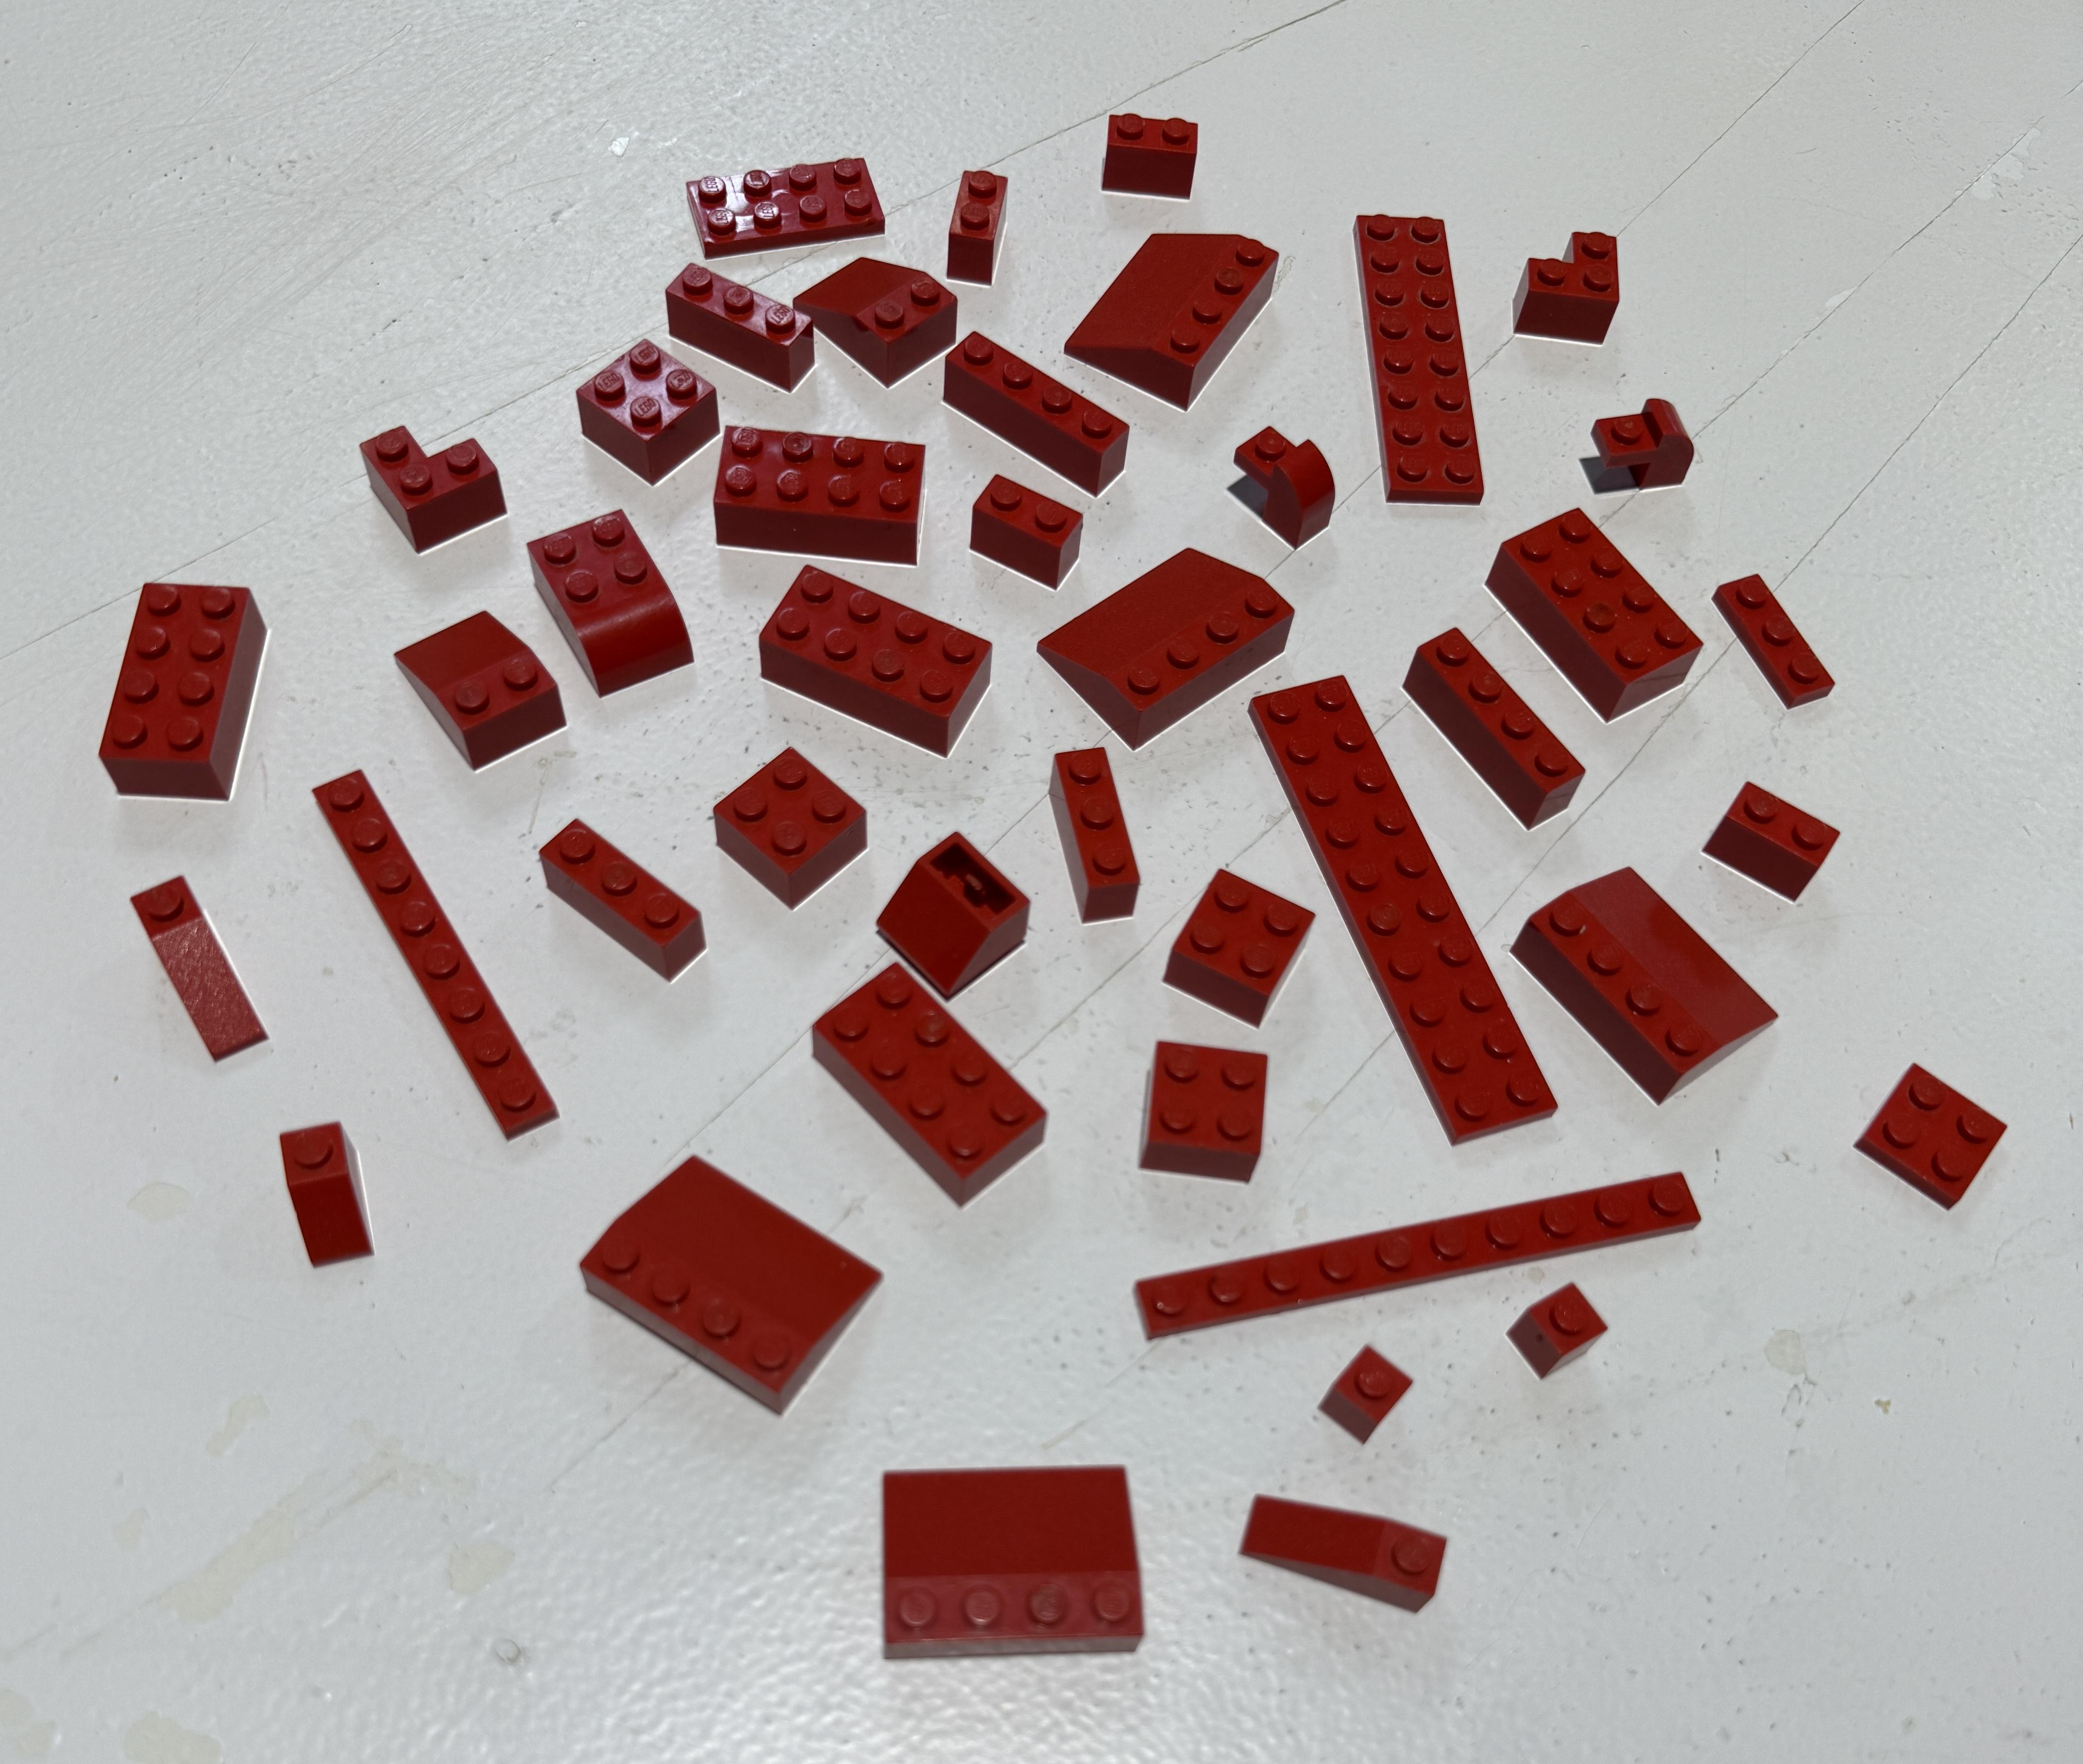Special_02: (369, 591, 583, 780), (782, 241, 968, 399)
brick_1x1: (1497, 1249, 1633, 1412), (1295, 1323, 1430, 1449)
brick_1x2: (1700, 768, 1876, 913), (1082, 87, 1227, 210), (915, 142, 1024, 290)
brick_1x3: (518, 793, 723, 997), (1029, 723, 1178, 950), (642, 248, 847, 404)
brick_1x4: (914, 306, 1164, 506), (1390, 605, 1596, 836)
brick_2x2: (1129, 845, 1330, 1039), (695, 738, 896, 927), (1115, 1024, 1290, 1206), (558, 331, 737, 492)
brick_2x4: (805, 957, 1070, 1225), (747, 544, 1010, 786), (72, 555, 289, 833), (672, 401, 943, 583)
plate_2x2: (1848, 1041, 2027, 1223)
